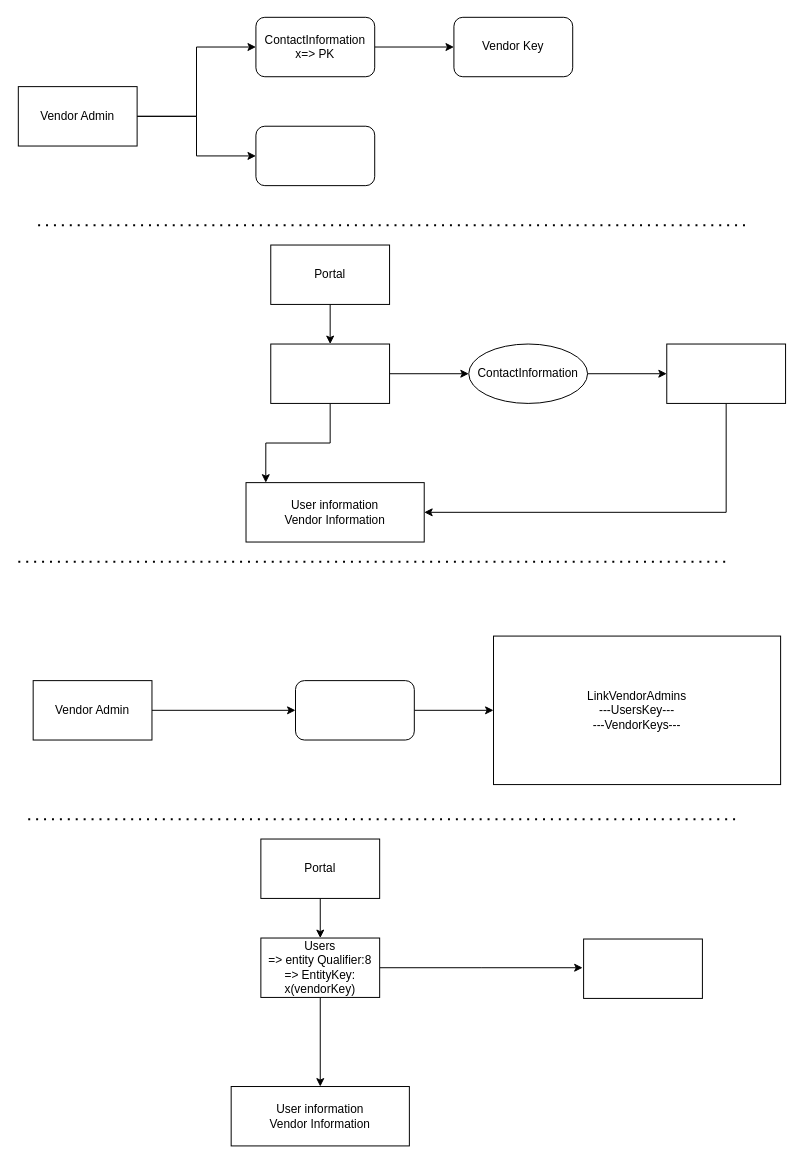
Image size: 803x1163. Some labels were removed from this diagram. Each missing label, with the centre of its shape:
"Multiple vendors from LinkVendorAdmins Table" belongs at (642,968).
"Users -> EntityQualifier: 8 -> EntityKey: Default vendor key" belongs at (354,710).
"Users -> EntityQualifier:19 -> EntityKey: x" belongs at (315,155).
"Users => entity Qualifier:19 => EntityKey: x" belongs at (330,373).
"Vendor Using Entity Key" belongs at (726,373).
